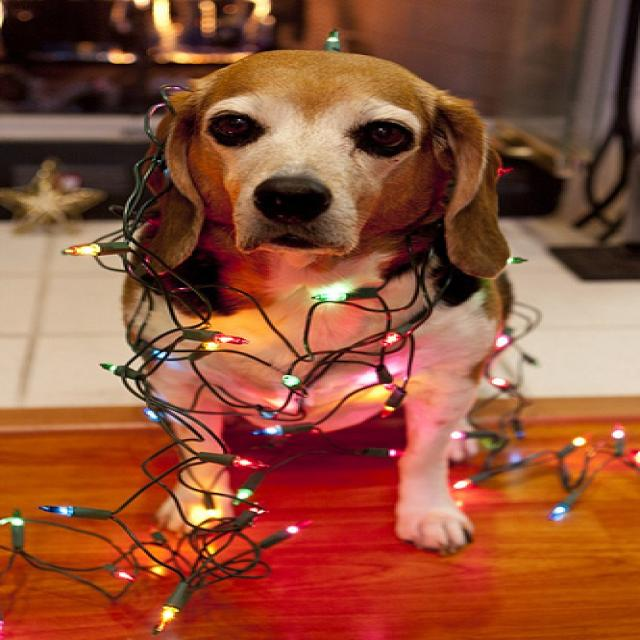dog-beagle: (108, 42, 525, 561)
